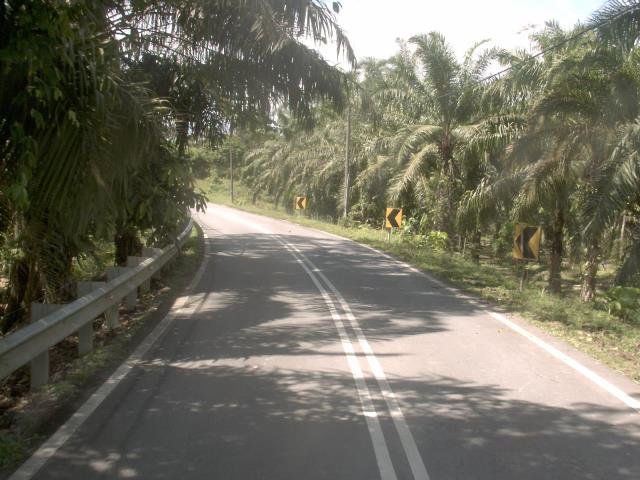traffic_sign: (509, 218, 547, 267)
